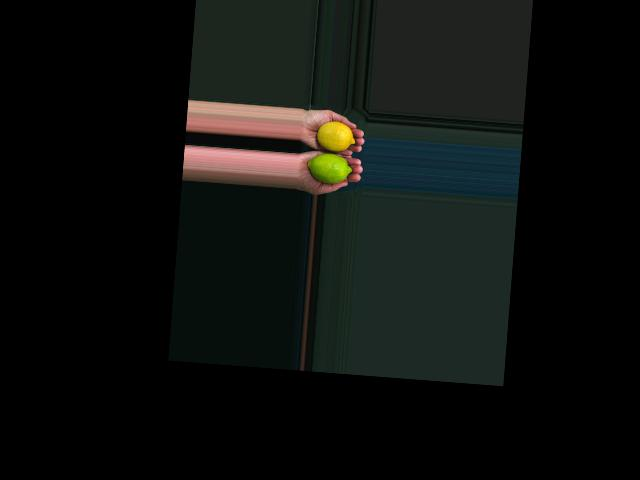lemon: (314, 120, 356, 153)
